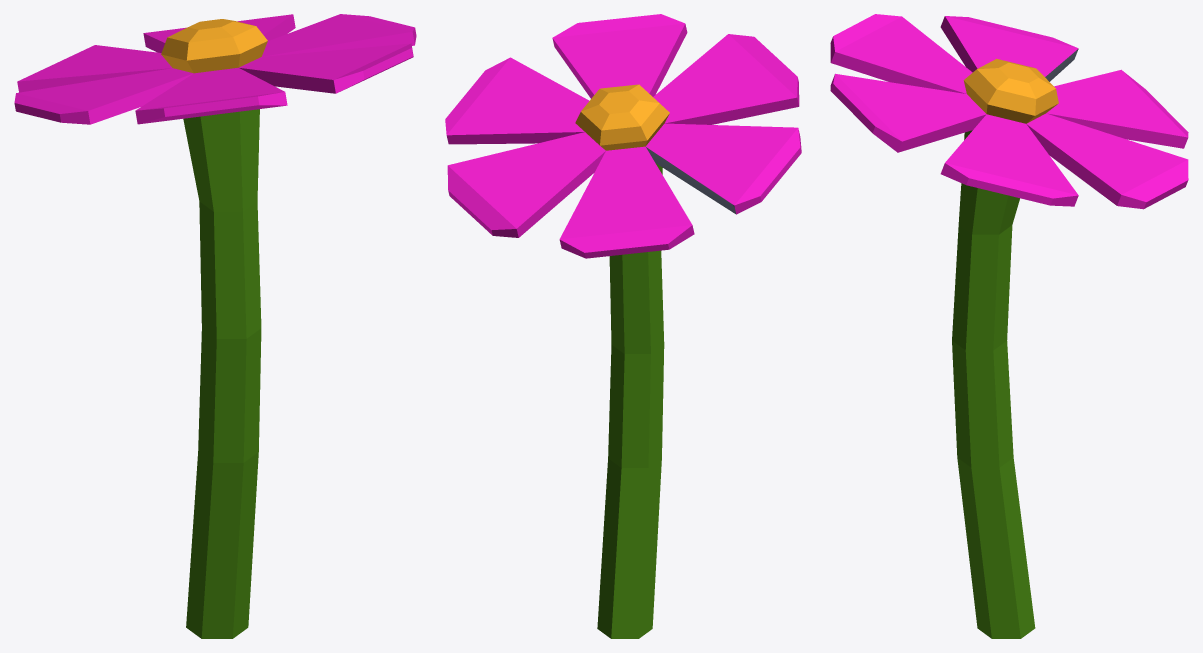
The model's file is SM_Flower1.fbx.
3 renders of one model, left to right at view 1: azimuth 30°, elevation 25°; view 2: azimuth 150°, elevation 25°; view 3: azimuth 270°, elevation 25°, orthographic. The views are drawn at different scales.
Visible parts, largest first — view 1: SM_Flower1; view 2: SM_Flower1; view 3: SM_Flower1.
Boxes of the visible parts, left/top/right/bottom form: SM_Flower1: left=14, top=14, right=416, bottom=638; SM_Flower1: left=445, top=14, right=801, bottom=638; SM_Flower1: left=830, top=14, right=1188, bottom=638.
Size of the model in its own units: 41.25 by 67.91 by 38.76.
